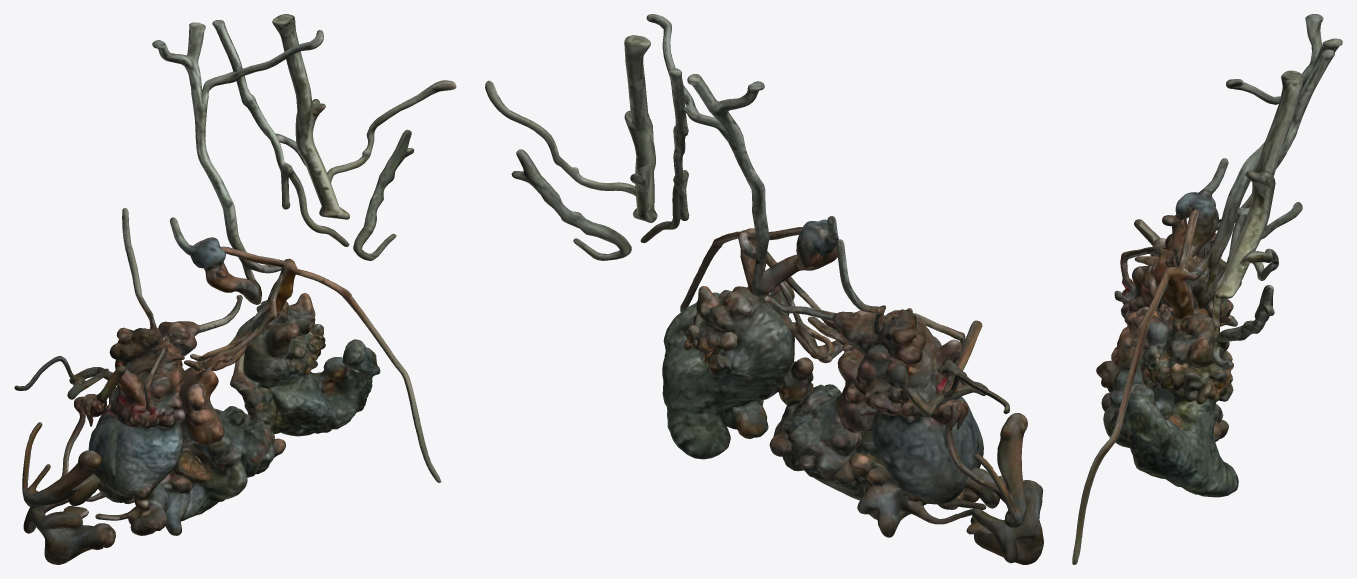
The model's file is decayed-wood-v11.glb.
3 renders of one model, left to right at view 1: azimuth 30°, elevation 25°; view 2: azimuth 150°, elevation 25°; view 3: azimuth 270°, elevation 25°, orthographic. The views are drawn at different scales.
Parts seen in each view (by area): view 1: geometry_0; view 2: geometry_0; view 3: geometry_0.
Boxes of the visible parts, x1,y1,x2,y2 form: geometry_0: (14, 14, 456, 564); geometry_0: (485, 14, 1043, 564); geometry_0: (1072, 14, 1342, 564).
Size of the model in its own units: 0.45 by 0.4158 by 0.2084.
1 material, 1 textured.
